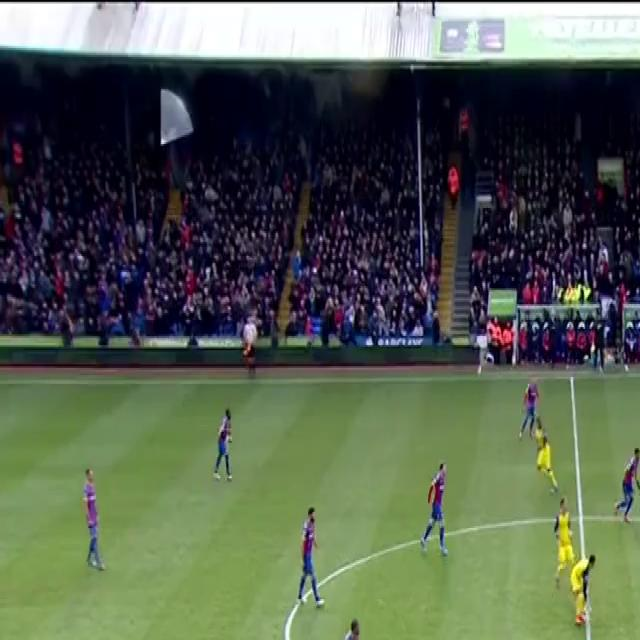referee: (240, 315, 263, 380)
soccer-player: (290, 499, 325, 617), (417, 451, 453, 559), (76, 460, 109, 577), (526, 406, 563, 495), (569, 546, 601, 630), (611, 442, 640, 532), (550, 493, 576, 592), (210, 400, 238, 488), (520, 367, 545, 442), (323, 615, 361, 640), (488, 631, 550, 640)
